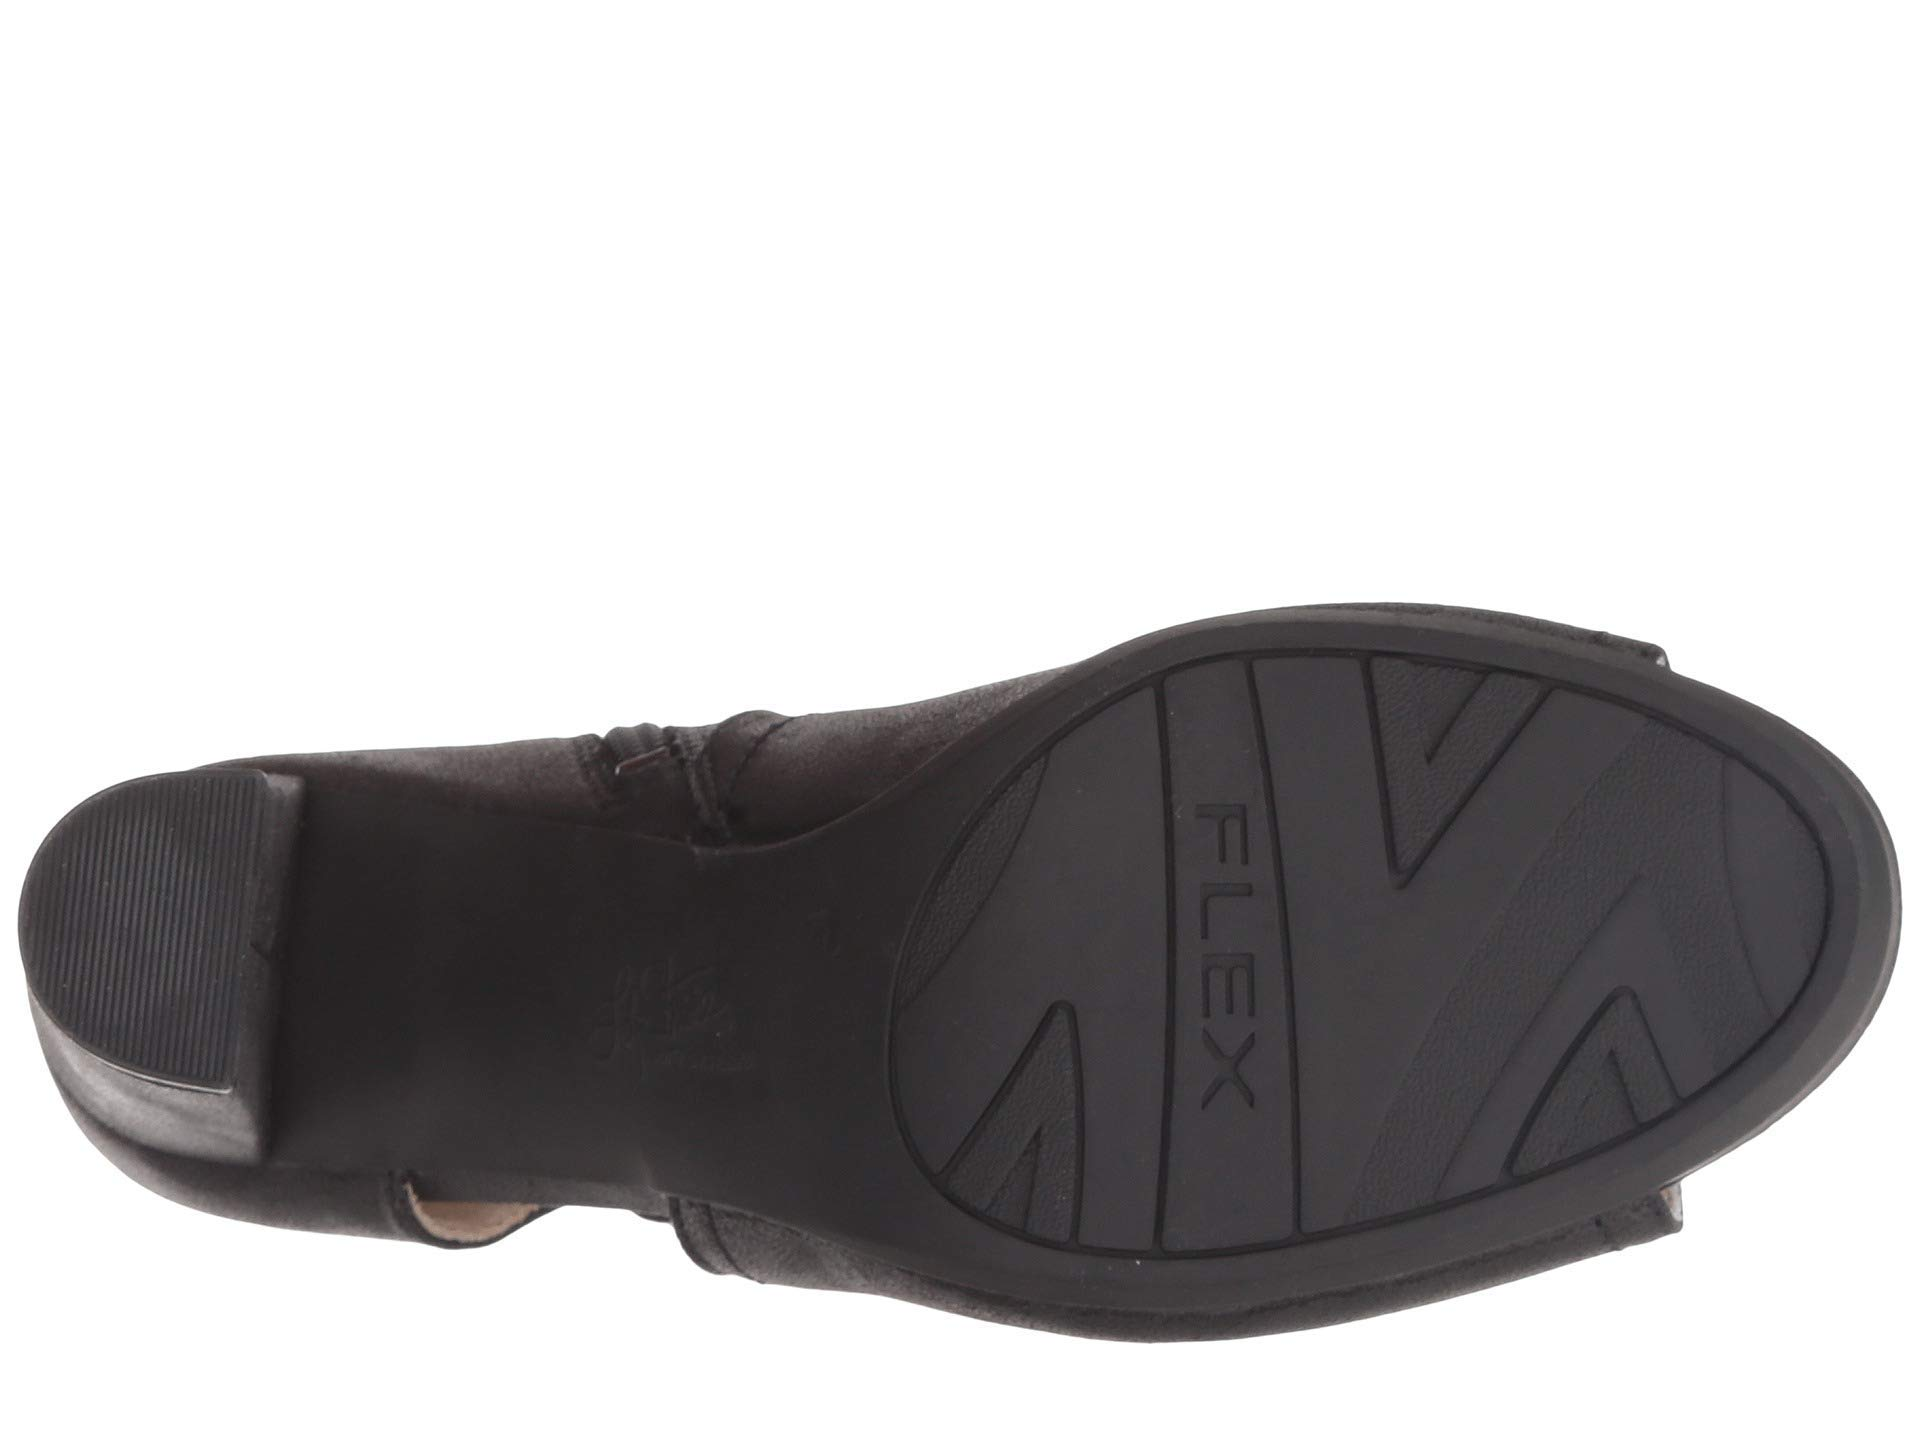chevron: (983, 756, 1469, 1231)
text: (983, 756, 1469, 1231)
